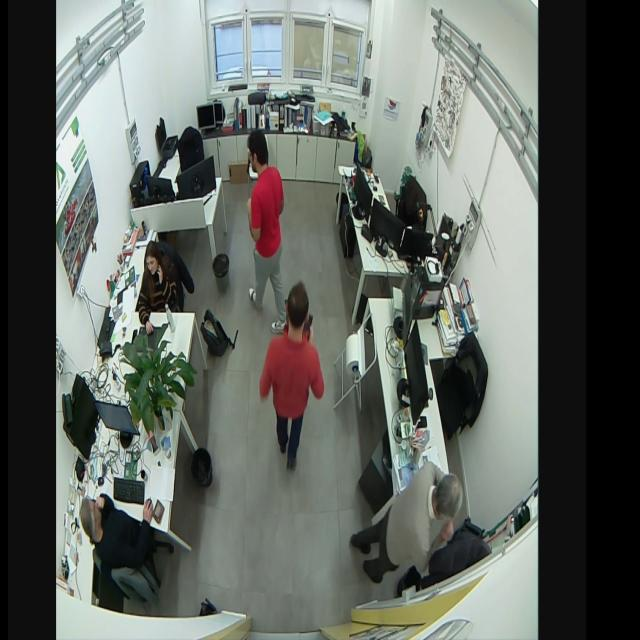Persona: (348, 453, 464, 588), (257, 279, 326, 472), (243, 127, 288, 334), (76, 482, 154, 578), (136, 236, 180, 333)
